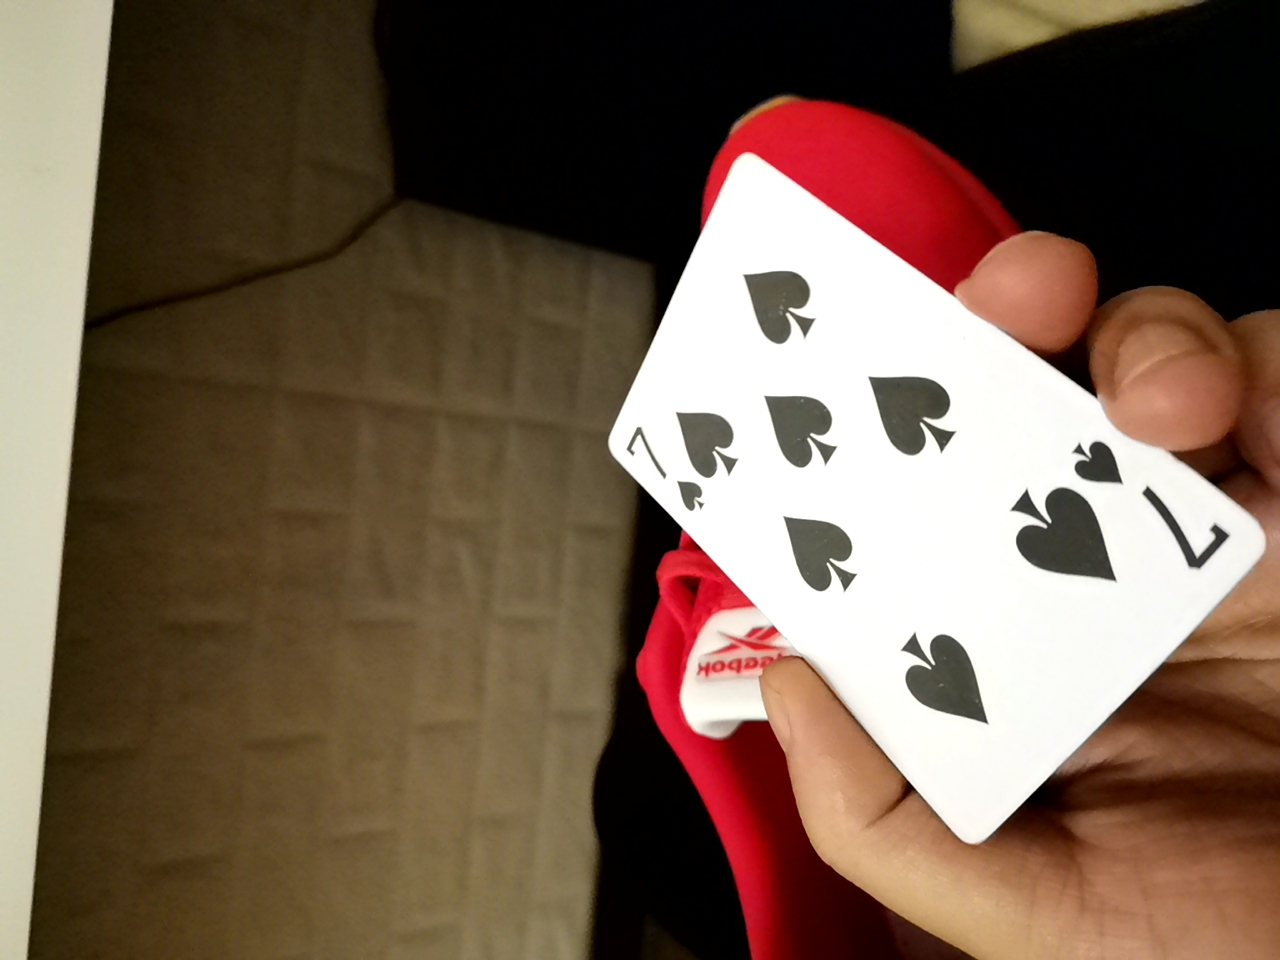ht 7: (539, 143, 1246, 855)
